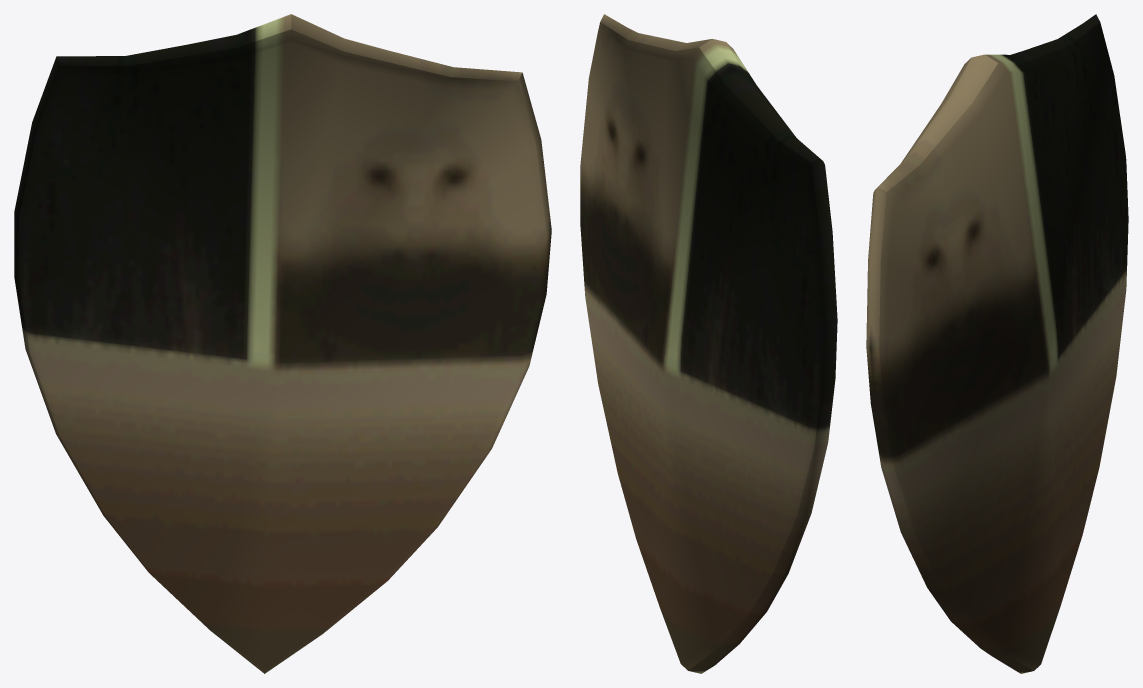
The model's file is PS2.ico.obj.
3 renders of one model, left to right at view 1: azimuth 30°, elevation 25°; view 2: azimuth 150°, elevation 25°; view 3: azimuth 270°, elevation 25°, orthographic. The views are drawn at different scales.
Size of the model in its own units: 2.82 by 4.47 by 1.71.
